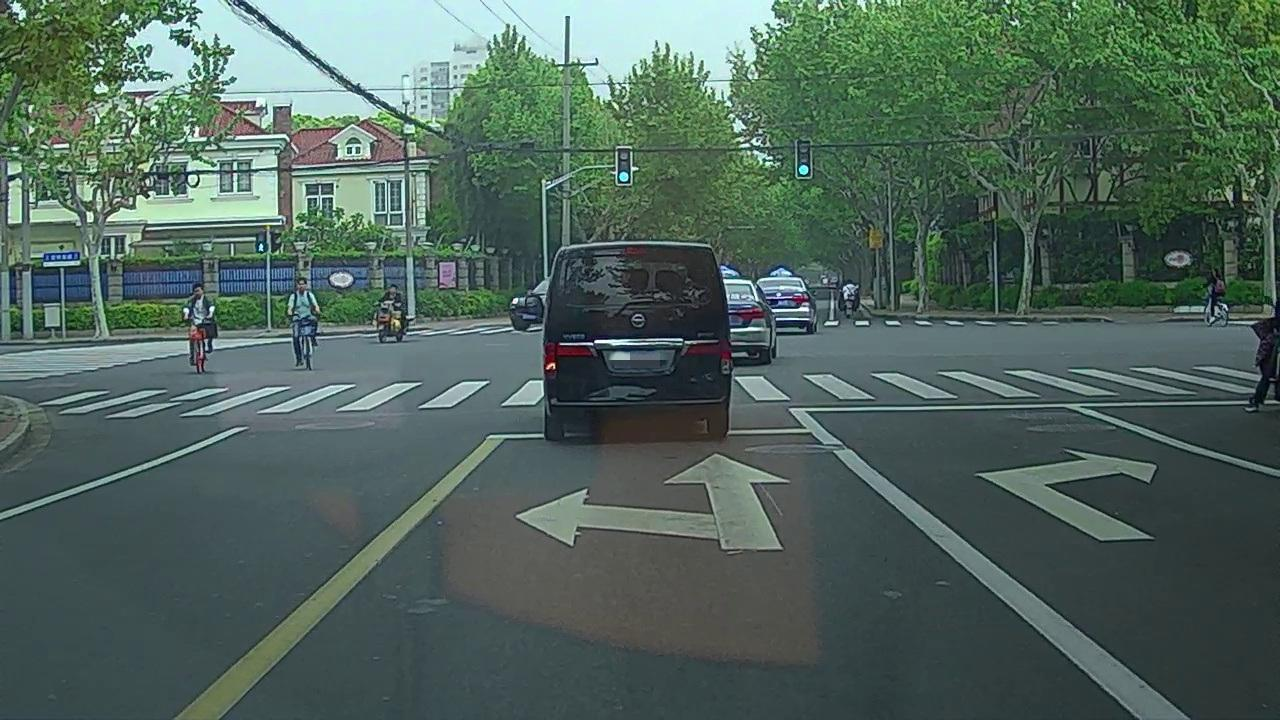traffic_light: (617, 148, 632, 184), (798, 140, 810, 177)
